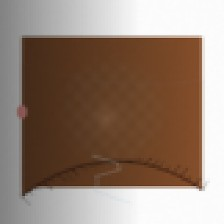foreign_body_visible: (108, 81, 144, 110)
